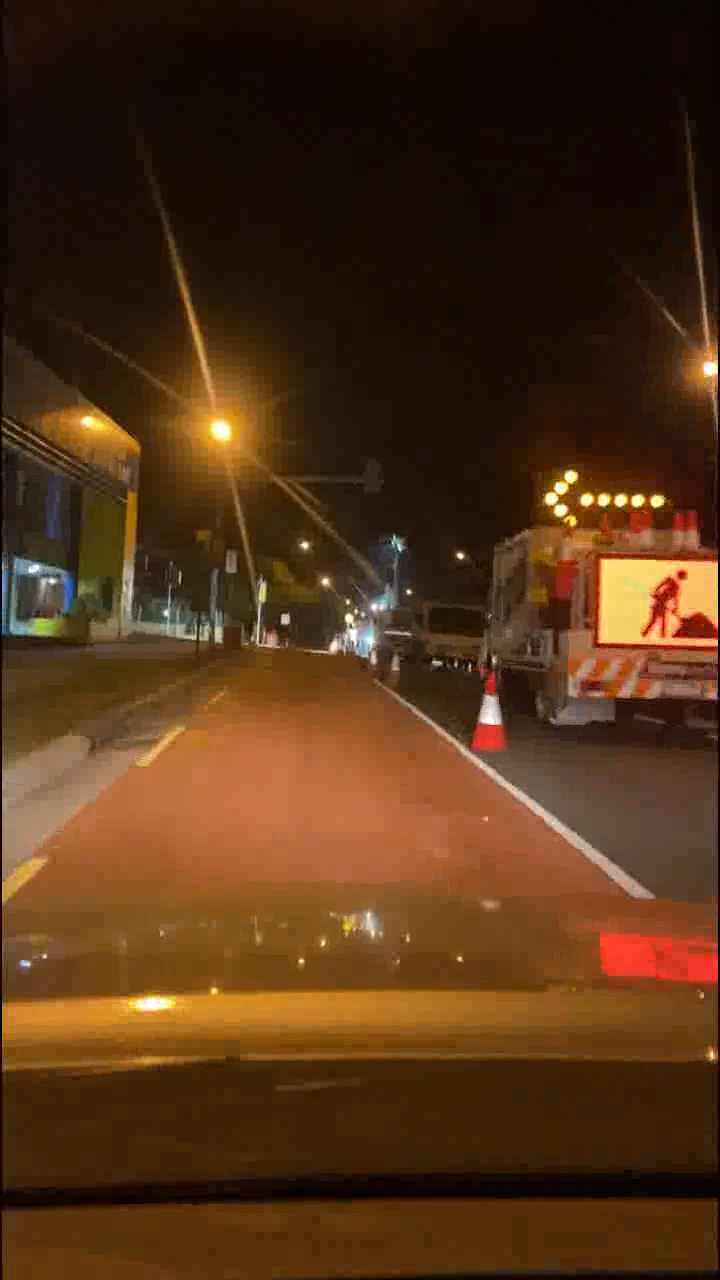truck: (468, 467, 720, 736)
